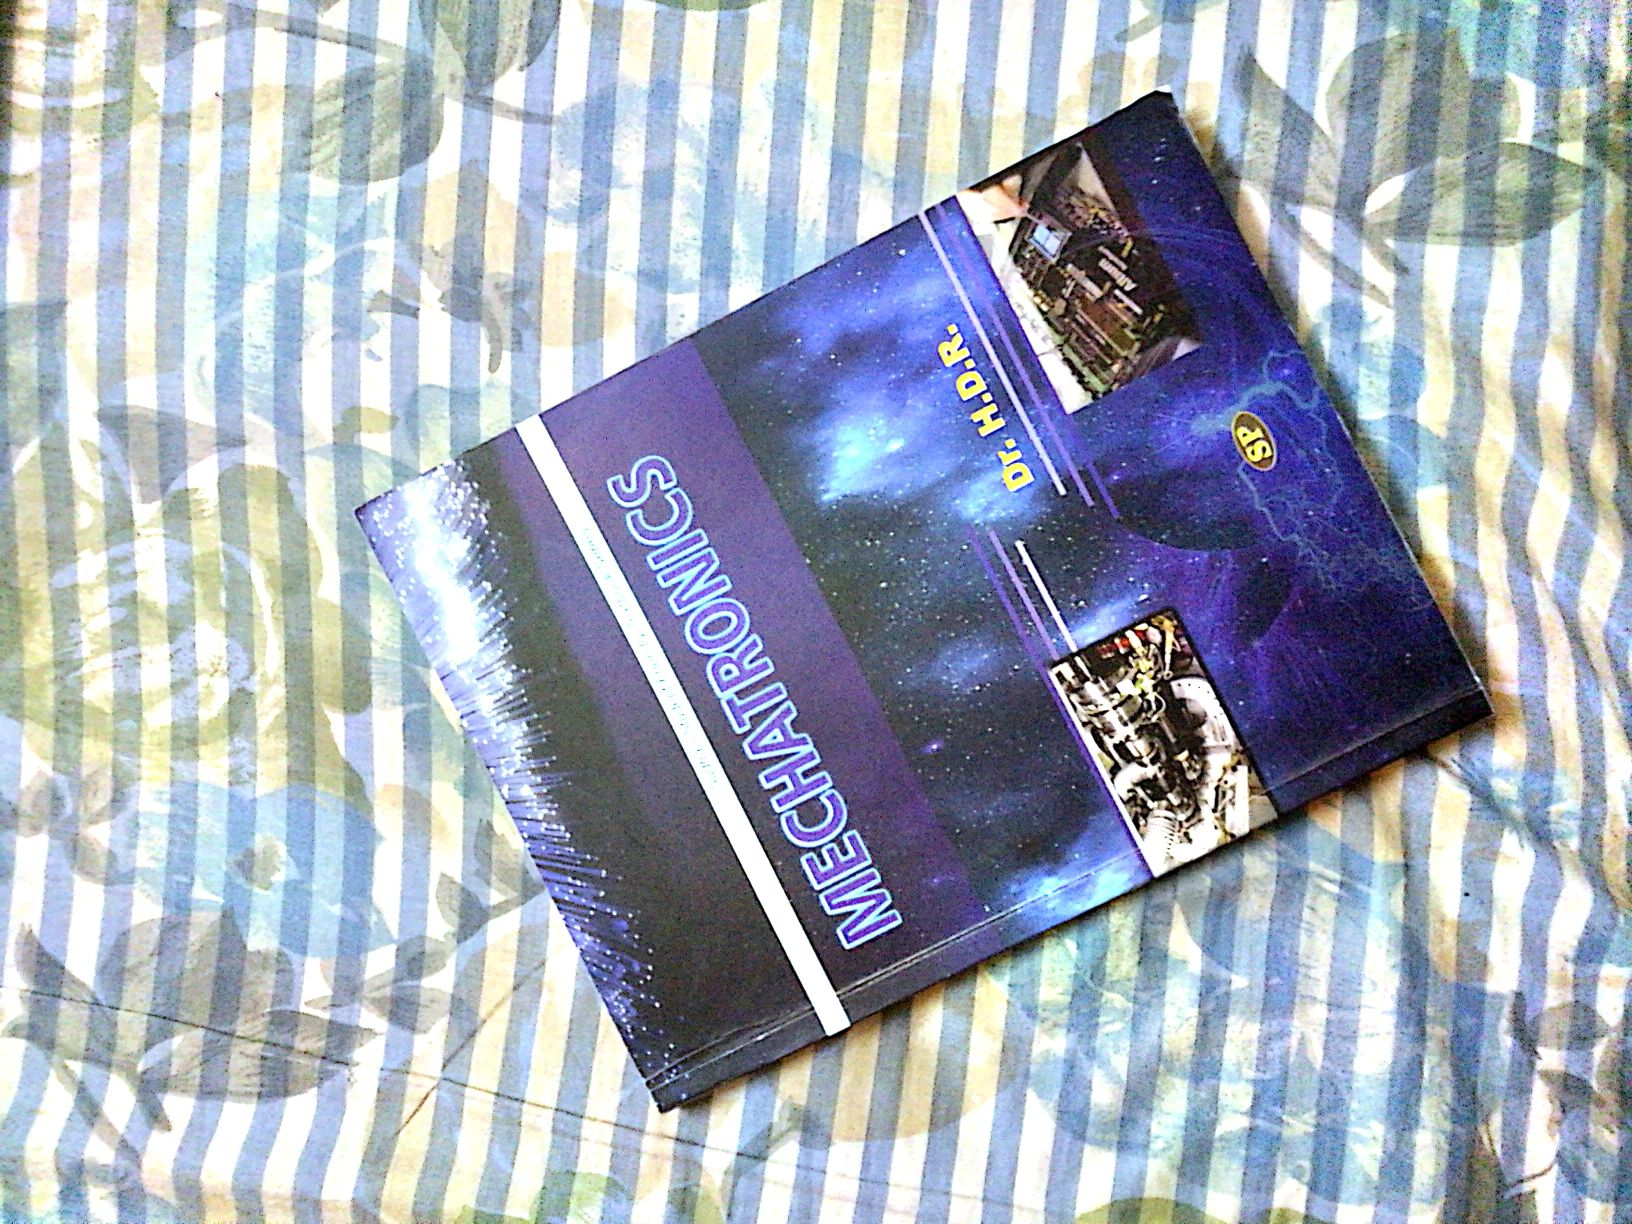mechatronics: (380, 123, 1426, 1111)
